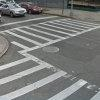Crosswalk: (7, 22, 100, 63)
